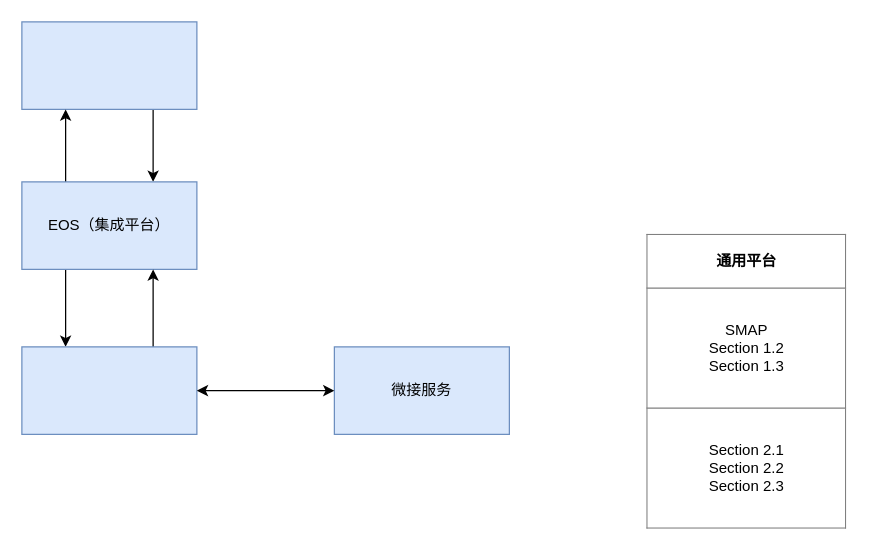
Some shapes in this 869 by 551 pixel diagram are drawn without their labels. Here are the shapes that lost their labels. From the top down, the centre of each, then its label:
the point at 109,65: 统一代办
the point at 109,390: PMS
